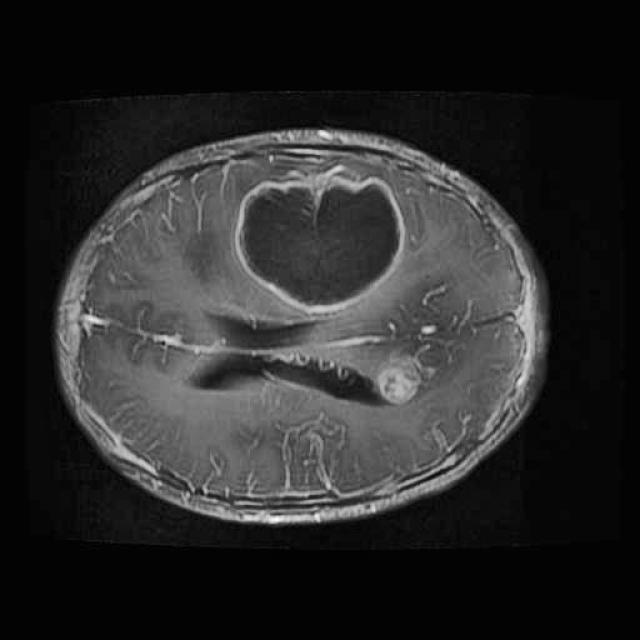Non-Tumor: (218, 151, 429, 325)
